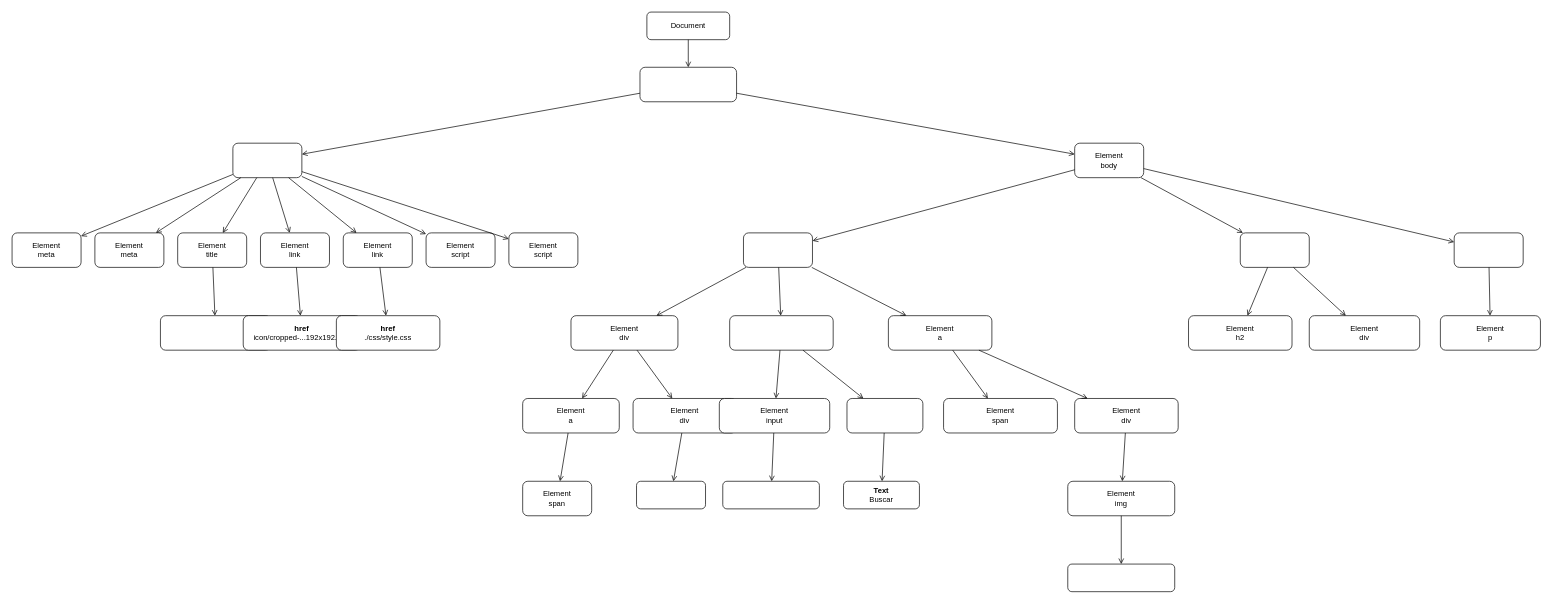
Image size: 1553x604. Some labels were removed from this diagram. The shapes that lost their labels are listed below. From the top down, each one's centre as x and y in pixels, then its label:
the point at 688,84: Element html
the point at 267,160: Element head
the point at 777,249: Element header
the point at 1274,249: Element section
the point at 1488,249: Element footer
the point at 215,332: Text ATI[UCV]Log 2026-1
the point at 781,332: Element nav
the point at 884,415: Element button
the point at 671,495: Text ☰
the point at 770,495: placeholder Nombre...
the point at 1121,577: src icon/userIcon.svg
